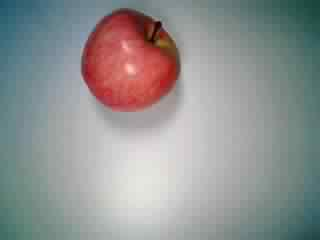apple: (78, 9, 183, 111)
